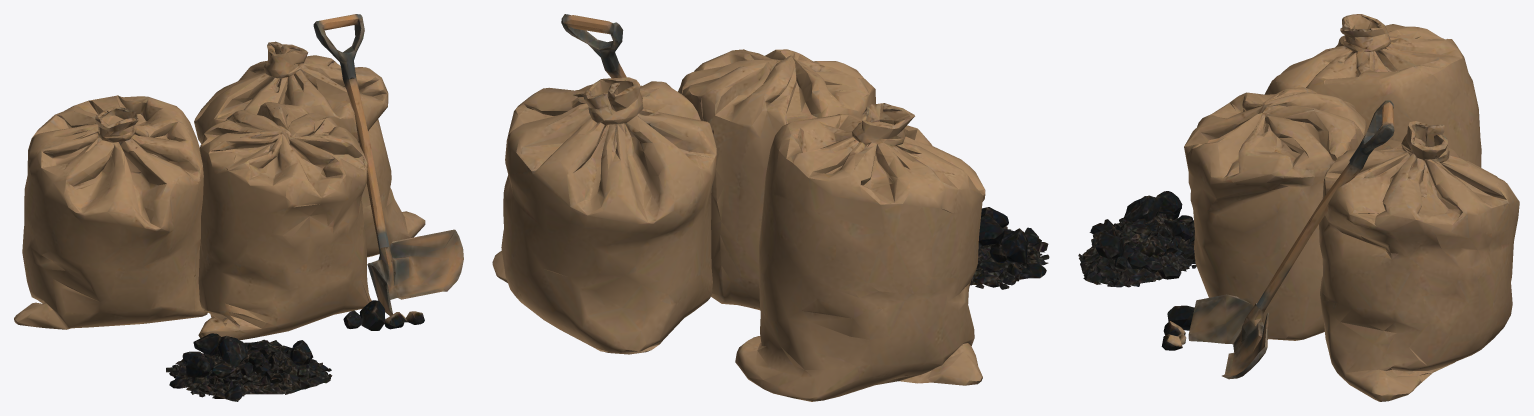
Rendered from coal_sacks_shovel.glb.
3 views of the same model, side by side, from view 1: azimuth 30°, elevation 25°; view 2: azimuth 150°, elevation 25°; view 3: azimuth 270°, elevation 25° (orthographic). The views are drawn at different scales.
Parts seen in each view (by area): view 1: main; view 2: main; view 3: main.
Part boxes in pixels (left/top/right/bottom): main: left=14, top=14, right=463, bottom=401; main: left=492, top=14, right=1049, bottom=401; main: left=1078, top=14, right=1519, bottom=401.
Bounding box in the file's own units: 1.87 × 0.999 × 1.61.
Materials: 1 (1 with a texture image).
